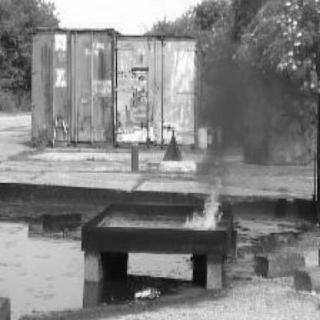Fire: (184, 177, 222, 229)
Smoke: (205, 51, 299, 143)
